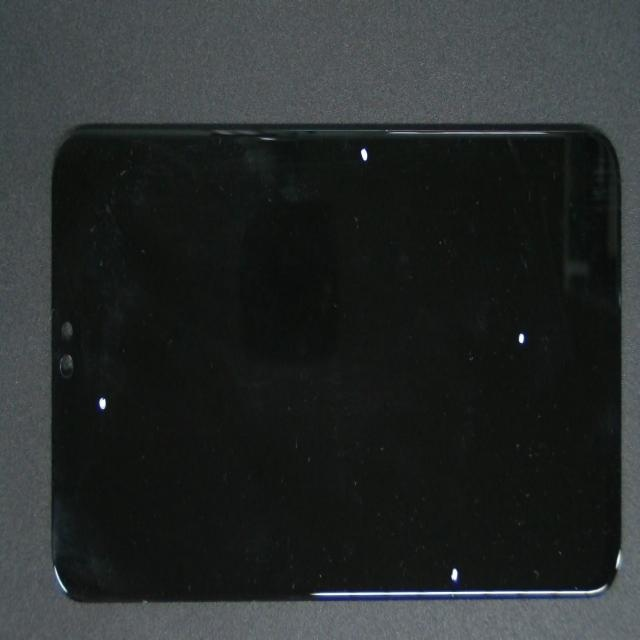stain: (244, 294, 640, 640), (267, 127, 640, 477), (193, 97, 561, 227), (56, 163, 142, 572)
